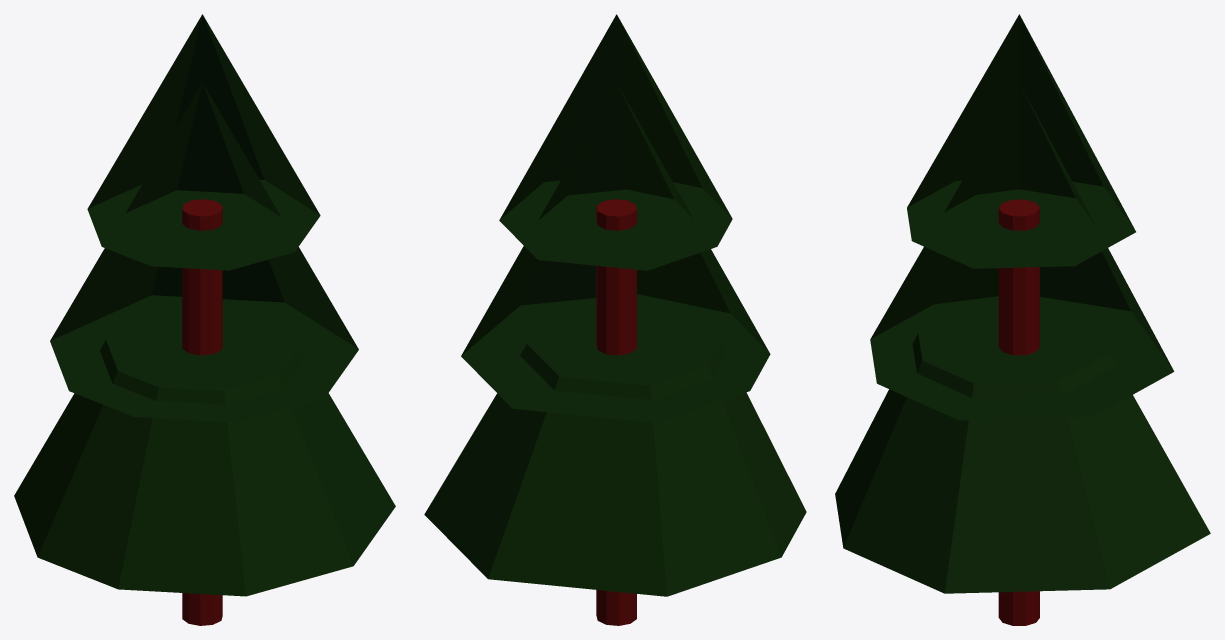
Rendered from tree_2.fbx.
3 views of the same model, side by side, from view 1: azimuth 30°, elevation 25°; view 2: azimuth 150°, elevation 25°; view 3: azimuth 270°, elevation 25° (orthographic).
Parts seen in each view (by area): view 1: Cylinder; view 2: Cylinder; view 3: Cylinder.
Part boxes in pixels (x1,y1,x2,y2): Cylinder: (14,14,395,625); Cylinder: (424,14,806,625); Cylinder: (835,14,1210,625).
Bounding box in the file's own units: 219 × 394 × 222.
